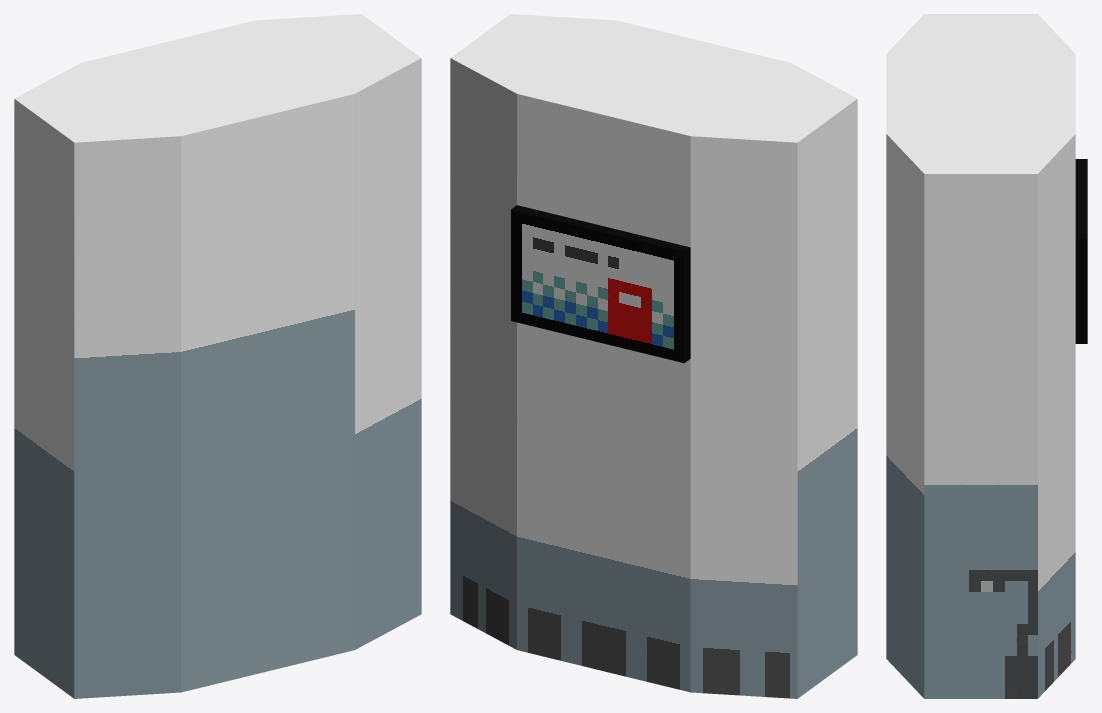
File: aff.gltf
The picture shows the model from 3 angles, left to right: view 1: azimuth 30°, elevation 25°; view 2: azimuth 150°, elevation 25°; view 3: azimuth 270°, elevation 25°; orthographic projection. The views are drawn at different scales.
Parts seen in each view (by area): view 1: cuboid; view 2: cuboid; view 3: cuboid.
Boxes of the visible parts, x1=… form: cuboid: x1=14, y1=14, x2=421, y2=698; cuboid: x1=450, y1=14, x2=857, y2=698; cuboid: x1=886, y1=14, x2=1087, y2=698.
Bounding box in the file's own units: 2 × 3.06 × 1.06.
Materials: 1 (1 with a texture image).
